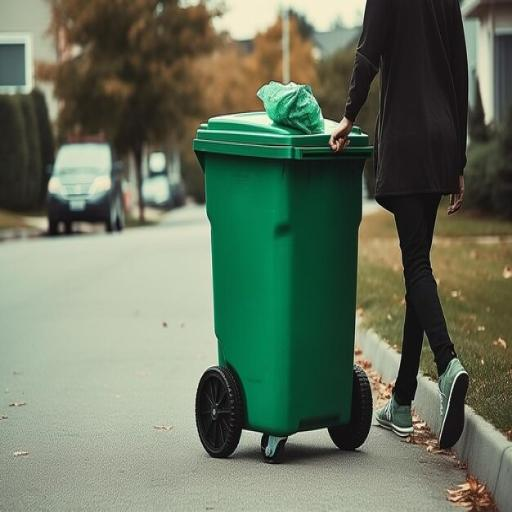Contenedor_Vacio: (193, 112, 371, 462), (92, 0, 212, 80)
